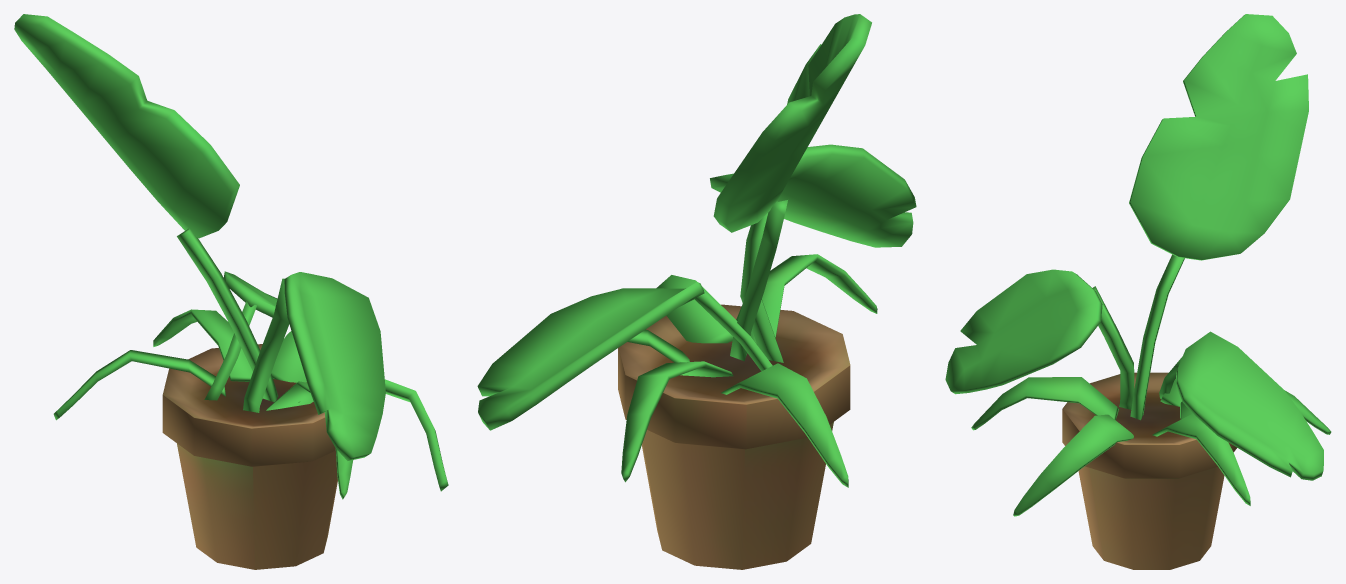
The model's file is Plant.fbx.
The picture shows the model from 3 angles, left to right: view 1: azimuth 30°, elevation 25°; view 2: azimuth 150°, elevation 25°; view 3: azimuth 270°, elevation 25°; orthographic projection. The views are drawn at different scales.
Parts seen in each view (by area): view 1: MonsteraPlant; view 2: MonsteraPlant; view 3: MonsteraPlant.
Part boxes in pixels (left/top/right/bottom): MonsteraPlant: left=14, top=14, right=448, bottom=569; MonsteraPlant: left=477, top=14, right=916, bottom=569; MonsteraPlant: left=945, top=14, right=1331, bottom=569.
Bounding box in the file's own units: 267 × 402 × 304.
